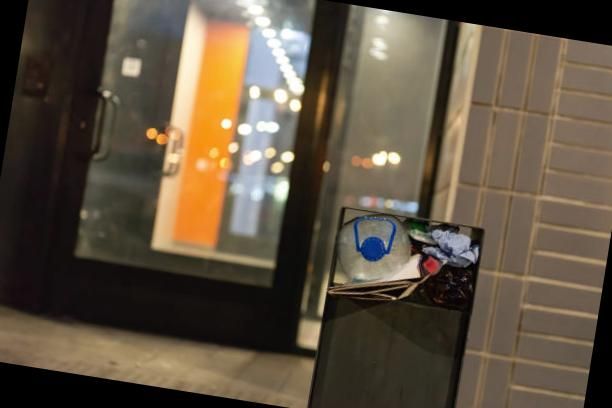trash: (319, 190, 491, 324)
trash_can_overflow: (274, 156, 551, 408)
